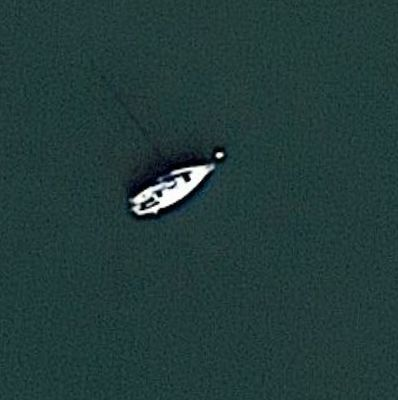boat: (126, 160, 223, 218)
